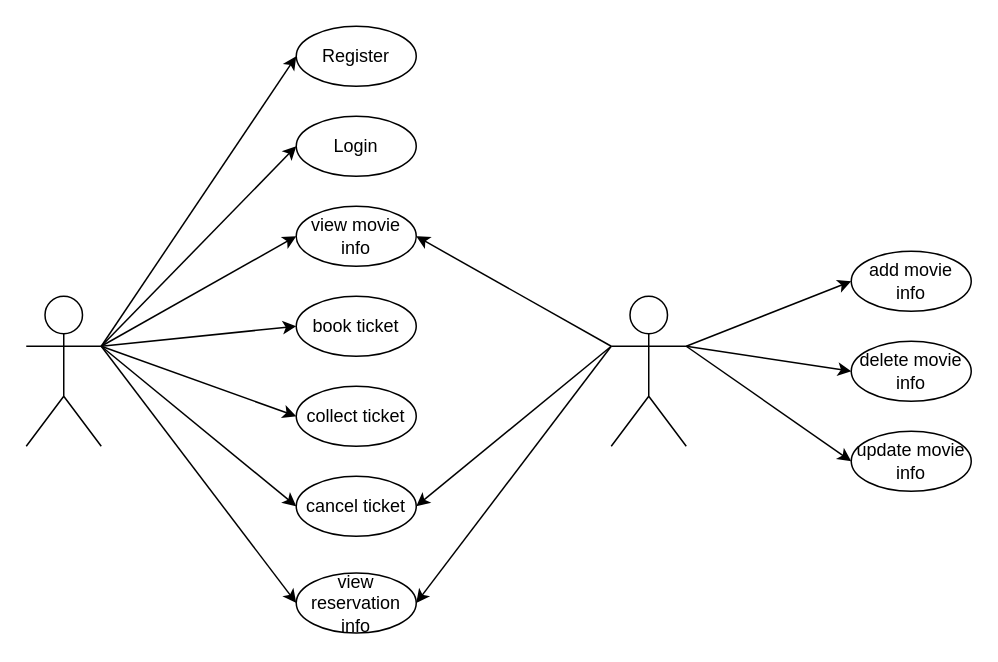
This 998x662 diagram has some shape labels left out. The shapes that lost their labels are listed below. From the top down, each one's centre as x and y in pixels, then its label:
pixel 63 370: customer
pixel 648 370: staffs
